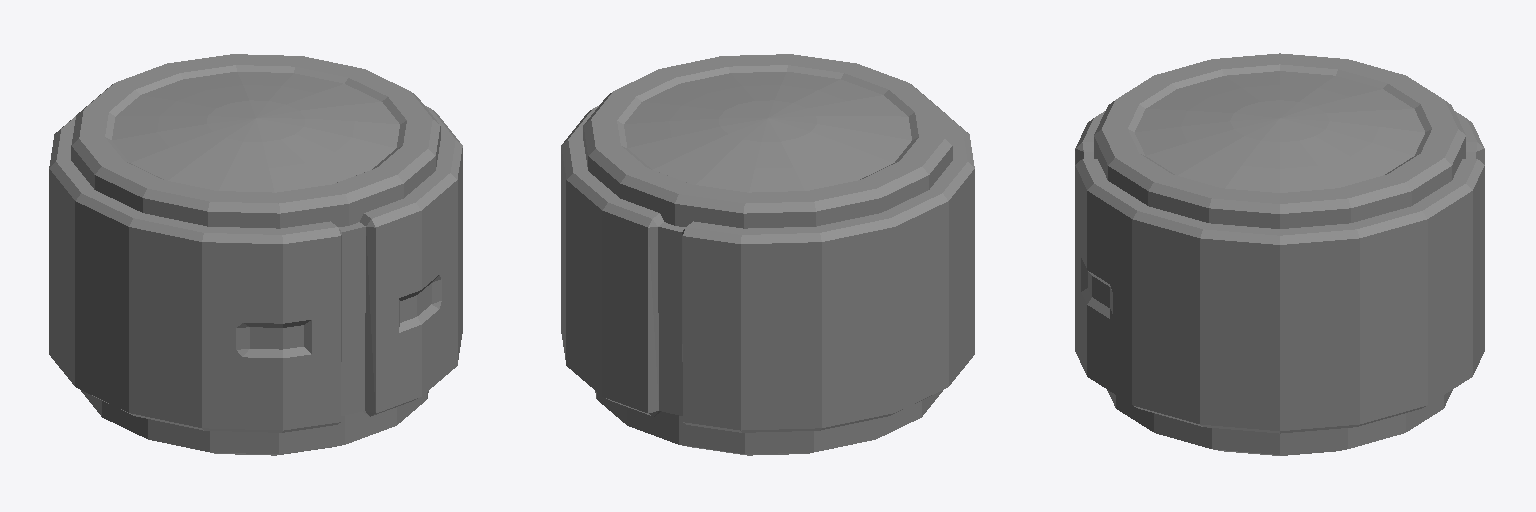
The model's file is cpz_obj_pipelinecapA_000.obj.
The picture shows the model from 3 angles: view 1: azimuth 30°, elevation 25°; view 2: azimuth 150°, elevation 25°; view 3: azimuth 270°, elevation 25°; orthographic projection.
Visible parts, largest first — view 1: ccp_metal_yy_floor3_Cmn_dpn, cpz_metal_tn1_footholdA_floor, ccp_metal_yy_yelow_Cmn_dpn, ccp_metal_yy_gray_Cmn_dpn, cpz_metal_st1_floor01_Lumi_dpnE, cpz_yy1_road_cmn_dp, ccp_metal_yy_gray02_Lumin_dpnE; view 2: ccp_metal_yy_floor3_Cmn_dpn, cpz_metal_tn1_footholdA_floor, ccp_metal_yy_yelow_Cmn_dpn, ccp_metal_yy_gray_Cmn_dpn, cpz_metal_st1_floor01_Lumi_dpnE; view 3: ccp_metal_yy_floor3_Cmn_dpn, cpz_metal_tn1_footholdA_floor, ccp_metal_yy_yelow_Cmn_dpn, ccp_metal_yy_gray_Cmn_dpn, cpz_yy1_road_cmn_dp.
Boxes of the visible parts, box(x1,y1,x2,y2) form: ccp_metal_yy_floor3_Cmn_dpn: box(49, 106, 462, 432); cpz_metal_tn1_footholdA_floor: box(112, 72, 399, 192); ccp_metal_yy_yelow_Cmn_dpn: box(71, 54, 440, 228); ccp_metal_yy_gray_Cmn_dpn: box(81, 390, 428, 455); cpz_metal_st1_floor01_Lumi_dpnE: box(338, 222, 365, 415); cpz_yy1_road_cmn_dp: box(236, 275, 441, 357); ccp_metal_yy_gray02_Lumin_dpnE: box(250, 283, 431, 349); ccp_metal_yy_floor3_Cmn_dpn: box(561, 106, 974, 432); cpz_metal_tn1_footholdA_floor: box(624, 72, 911, 192); ccp_metal_yy_yelow_Cmn_dpn: box(583, 54, 952, 228); ccp_metal_yy_gray_Cmn_dpn: box(595, 390, 942, 455); cpz_metal_st1_floor01_Lumi_dpnE: box(658, 222, 685, 415); ccp_metal_yy_floor3_Cmn_dpn: box(1075, 111, 1484, 433); cpz_metal_tn1_footholdA_floor: box(1135, 71, 1424, 192); ccp_metal_yy_yelow_Cmn_dpn: box(1094, 53, 1465, 228); ccp_metal_yy_gray_Cmn_dpn: box(1107, 390, 1452, 455); cpz_yy1_road_cmn_dp: box(1081, 258, 1112, 318).
Size of the model in its own units: 50.4 by 36.68 by 49.44.